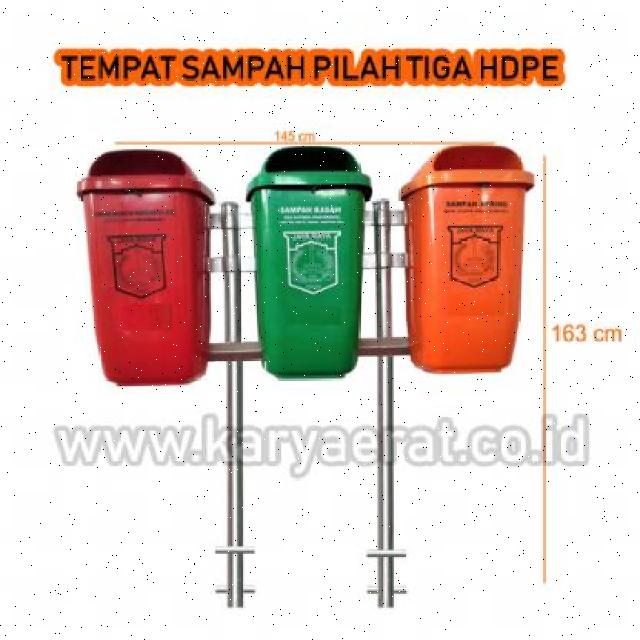garbage container: (66, 142, 229, 396), (394, 140, 543, 380), (243, 144, 375, 384)
